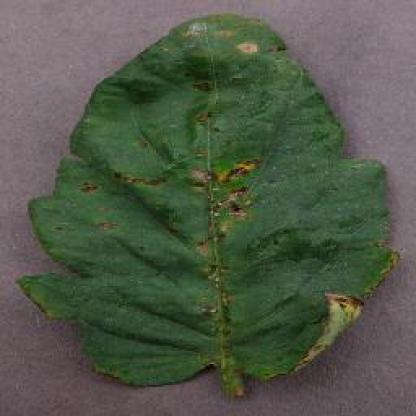bad leaf: (179, 146, 272, 316), (283, 281, 372, 365), (184, 21, 279, 64), (190, 72, 228, 140), (118, 170, 175, 191), (80, 174, 108, 197)
